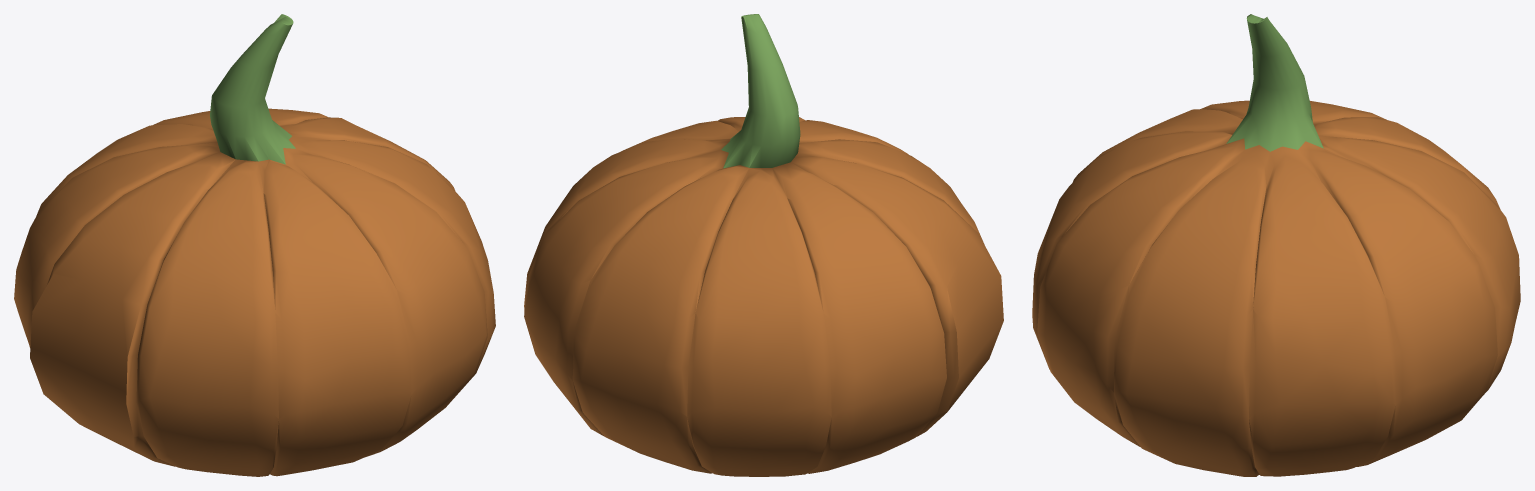
The model's file is plant_pumpkin_1.glb.
3 views of the same model, side by side, from view 1: azimuth 30°, elevation 25°; view 2: azimuth 150°, elevation 25°; view 3: azimuth 270°, elevation 25° (orthographic). The views are drawn at different scales.
Visible parts, largest first — view 1: refined; view 2: refined; view 3: refined.
Boxes of the visible parts, box(x1,y1,x2,y2) form: refined: box(14, 14, 495, 476); refined: box(524, 14, 1003, 476); refined: box(1032, 14, 1520, 476).
Size of the model in its own units: 0.8 by 0.7549 by 0.7871.
